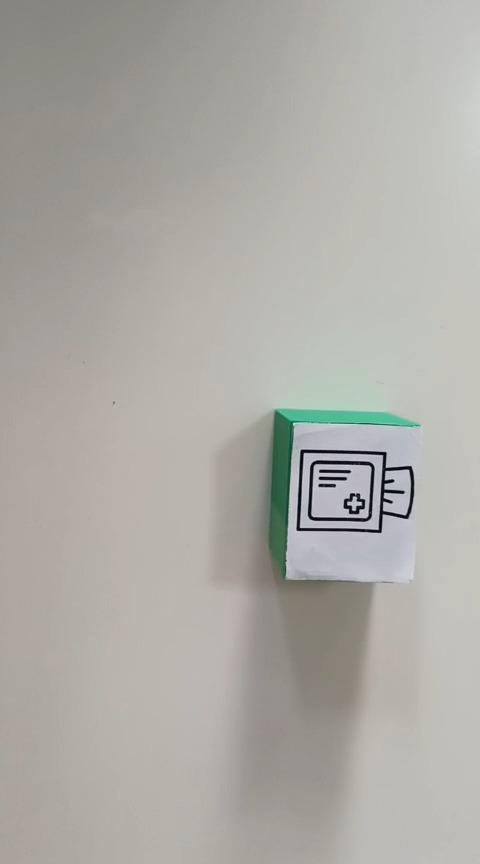Gauze: (267, 407, 422, 584)
